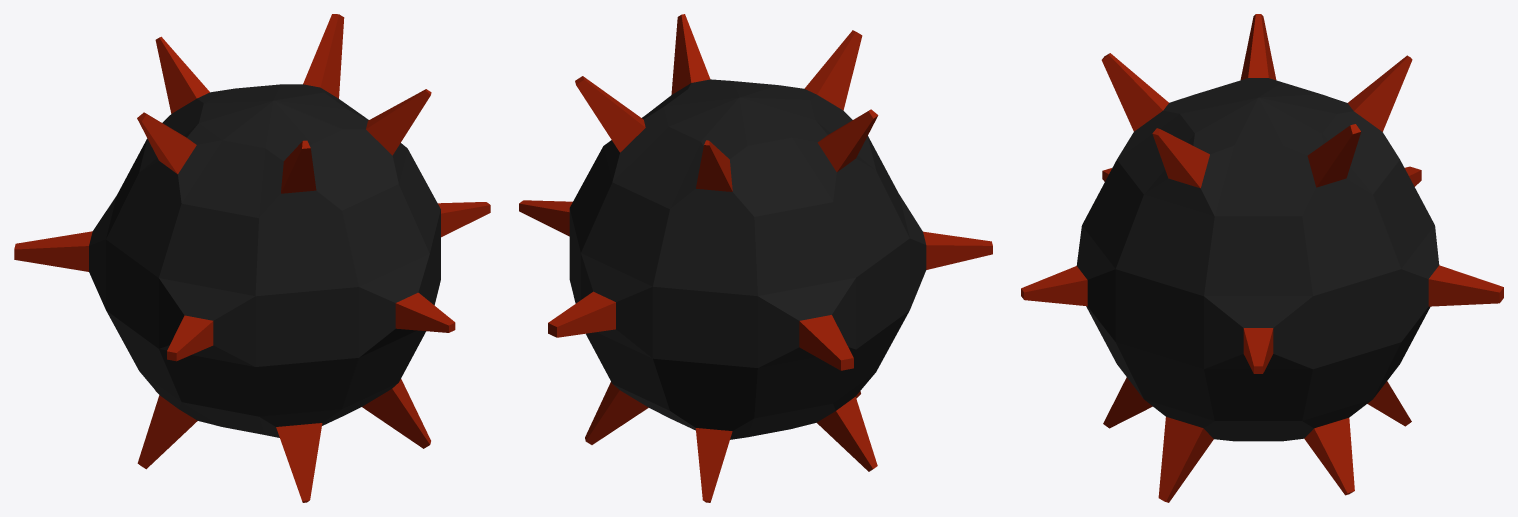
File: Mine.fbx
The picture shows the model from 3 angles, left to right: view 1: azimuth 30°, elevation 25°; view 2: azimuth 150°, elevation 25°; view 3: azimuth 270°, elevation 25°; orthographic projection. The views are drawn at different scales.
Visible parts, largest first — view 1: Sphere; view 2: Sphere; view 3: Sphere.
Part boxes in pixels (x1=…): Sphere: x1=14, y1=14, x2=490, y2=502; Sphere: x1=519, y1=14, x2=992, y2=502; Sphere: x1=1021, y1=14, x2=1503, y2=502.
Bounding box in the file's own units: 264 × 231 × 267.
